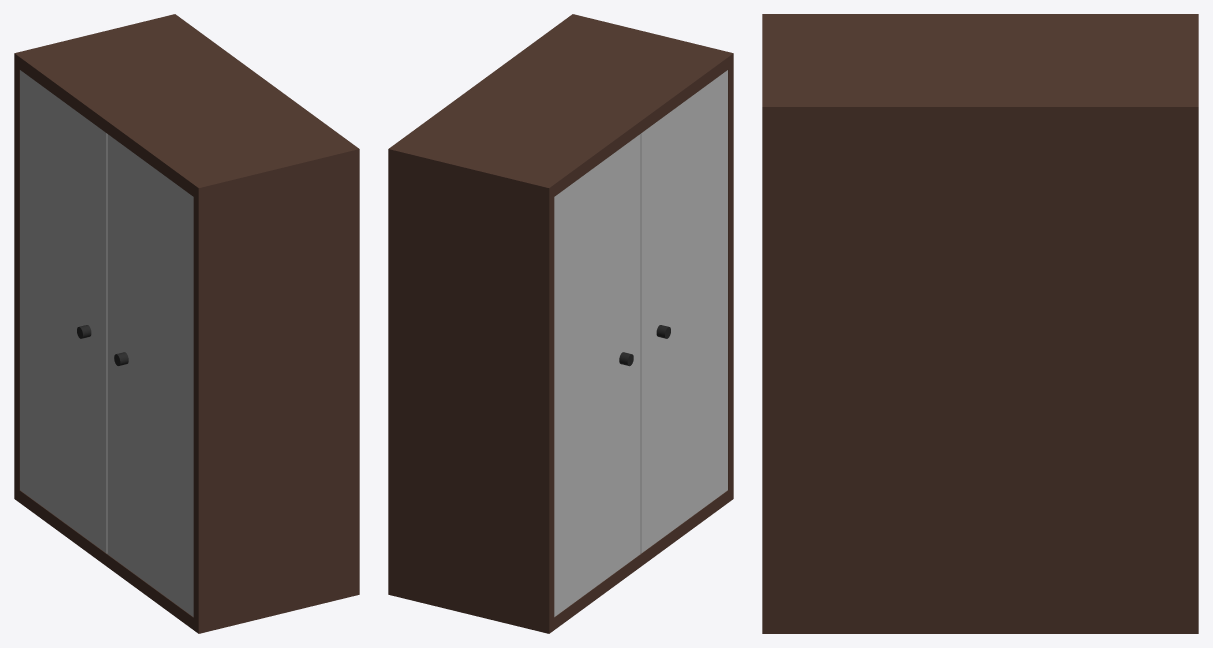
Rendered from Cabinet152_separated.fbx.
The picture shows the model from 3 angles, left to right: view 1: azimuth 30°, elevation 25°; view 2: azimuth 150°, elevation 25°; view 3: azimuth 270°, elevation 25°; orthographic projection. The views are drawn at different scales.
Visible parts, largest first — view 1: Body152, DoorLeft152, DoorRight152; view 2: Body152, DoorRight152, DoorLeft152; view 3: Body152.
Part boxes in pixels (box(x1,y1,x2,y2)): Body152: box(14, 14, 359, 633); DoorLeft152: box(20, 70, 107, 553); DoorRight152: box(107, 134, 193, 616); Body152: box(388, 14, 733, 633); DoorRight152: box(640, 70, 727, 553); DoorLeft152: box(554, 134, 640, 616); Body152: box(762, 14, 1198, 633).
Size of the model in its own units: 79.28 by 200 by 150.
